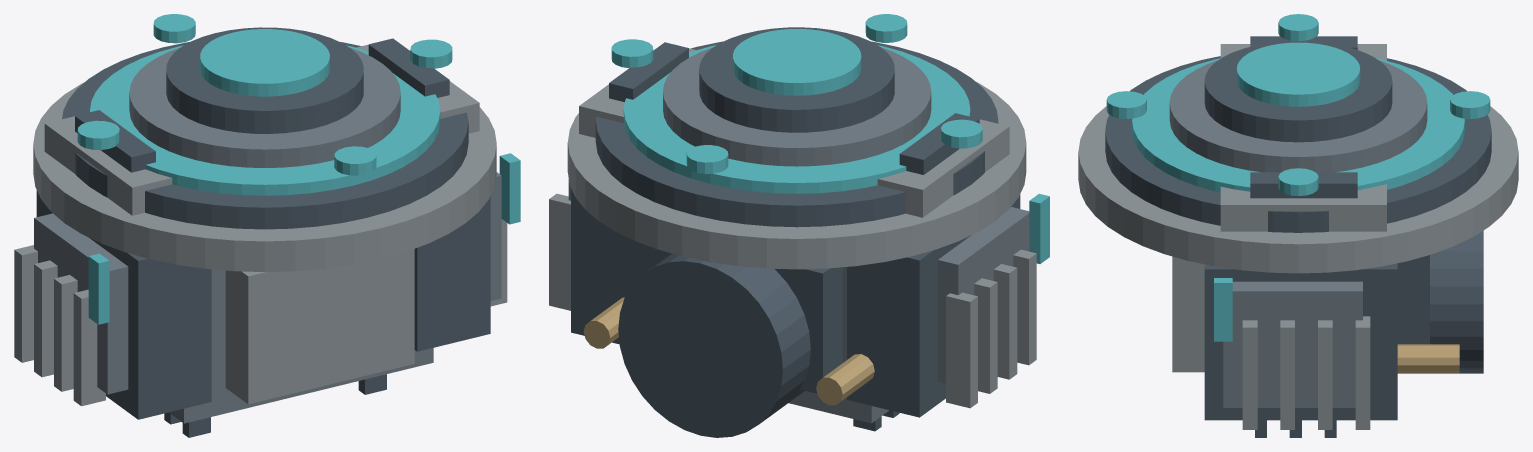
The model's file is shield3.glb.
3 views of the same model, side by side, from view 1: azimuth 30°, elevation 25°; view 2: azimuth 150°, elevation 25°; view 3: azimuth 270°, elevation 25° (orthographic). The views are drawn at different scales.
Parts seen in each view (by area): view 1: outer_emitter_ring, top_ridge, outer_dark_gasket, side_cheek_-1, inner_gunmetal_ring, cyan_field_ring, core_housing, side_cheek_1, energy_core, side_cheek_plate_-1, central_armored_housing, front_bracket_-1 (+15 smaller); view 2: rear_mount_socket, outer_emitter_ring, outer_dark_gasket, side_cheek_-1, inner_gunmetal_ring, cyan_field_ring, core_housing, energy_core, side_cheek_1, lower_armor, side_cheek_plate_-1, front_bracket_-1 (+16 smaller); view 3: outer_emitter_ring, side_cheek_plate_1, outer_dark_gasket, inner_gunmetal_ring, cyan_field_ring, side_cheek_1, core_housing, energy_core, rear_mount_socket, front_bracket_1, top_ridge, lower_armor (+13 smaller).
Boxes of the visible parts, x1,y1,x2,y2 form: outer_emitter_ring: (33,82,496,271); top_ridge: (225,249,414,404); outer_dark_gasket: (62,42,468,229); side_cheek_-1: (36,190,211,419); inner_gunmetal_ring: (129,48,400,167); cyan_field_ring: (90,45,440,195); core_housing: (166,27,363,133); side_cheek_1: (414,196,490,351); energy_core: (200,29,329,96); side_cheek_plate_-1: (34,213,128,394); central_armored_housing: (169,269,433,423); front_bracket_-1: (44,116,172,215); rear_mount_socket: (618,253,810,437); outer_emitter_ring: (567,82,1026,269); outer_dark_gasket: (595,41,998,227); side_cheek_-1: (847,194,1020,417); inner_gunmetal_ring: (663,47,931,166); cyan_field_ring: (623,45,970,193); core_housing: (699,27,894,132); energy_core: (733,29,861,95); side_cheek_1: (571,188,633,344); lower_armor: (634,240,842,393); side_cheek_plate_-1: (938,207,1029,383); front_bracket_-1: (877,119,1009,217); outer_emitter_ring: (1078,106,1518,273); side_cheek_plate_1: (1223,281,1362,407); outer_dark_gasket: (1105,56,1491,232); inner_gunmetal_ring: (1169,60,1427,172); cyan_field_ring: (1132,58,1464,192); side_cheek_1: (1204,263,1397,420); core_housing: (1204,41,1392,142); energy_core: (1236,42,1360,106); rear_mount_socket: (1430,230,1483,373); front_bracket_1: (1220,184,1386,231); top_ridge: (1172,256,1204,372); lower_armor: (1397,255,1429,344).
Bounding box in the file's own units: 1.74 × 1.33 × 1.64.
